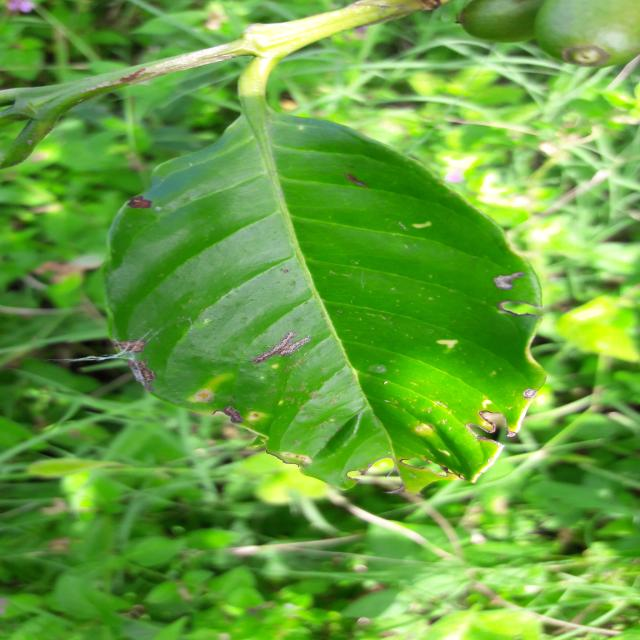Enfermedad-Roya: (86, 111, 546, 496)
